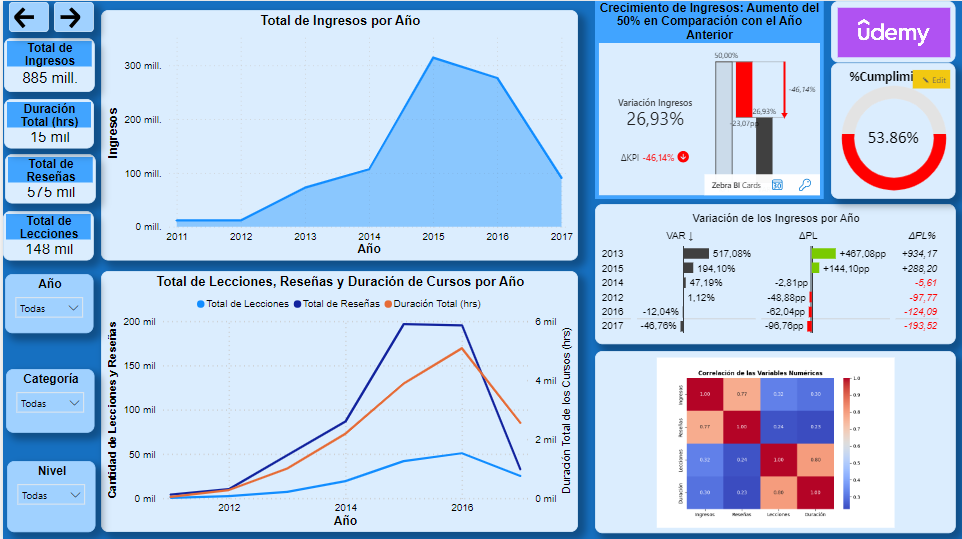

This screenshot's page, from the dashboard's own definition file:
{"tool":"powerbi","page":{"name":"KPI2","canvas":[1280,720],"ordinal":1},"visuals":[{"type":"areaChart","title":"Total de Ingresos por Año","fields":{"Category":["Calendario.Date.Variación.Jerarquía de fechas.Año"],"Y":["Sum(udemy_transformation.revenue)"]},"box":[131,11.5,636.5,334.1],"z":0},{"type":"lineChart","title":"Total de Lecciones, Reseñas y Duración de Cursos por Año","fields":{"Y":["Sum(udemy_transformation.num_lectures)","Sum(udemy_transformation.num_reviews)"],"Category":["Calendario.Date.Variación.Jerarquía de fechas.Año"],"Y2":["Sum(udemy_transformation.content_duration)"]},"box":[131,360,636.5,348.5],"z":1000},{"type":"card","title":"Total de Lecciones","fields":{"Values":["Sum(udemy_transformation.num_lectures)"]},"box":[0,279.4,121,66.2],"z":2000},{"type":"card","title":"Total de Reseñas","fields":{"Values":["Sum(udemy_transformation.num_reviews)"]},"box":[2.9,204.5,121,66.2],"z":3000},{"type":"card","title":"Total de Ingresos","fields":{"Values":["Sum(udemy_transformation.revenue)"]},"box":[1.4,49,121,72],"z":4000},{"type":"slicer","title":"Categoría","fields":{"Values":["udemy_transformation.subject"]},"box":[4.3,491,118.1,85],"z":5000},{"type":"slicer","title":"Nivel","fields":{"Values":["udemy_transformation.level"]},"box":[5.8,613.4,118.1,95],"z":6000},{"type":"slicer","title":"Año","fields":{"Values":["Calendario.Date.Variación.Jerarquía de fechas.Año"]},"box":[2.9,364.3,118.1,79.2],"z":7000},{"type":"variance8E4BB1B41A8942A7B897C7014A6E1F56","fields":{"Category":["Calendario.Date.Variación.Jerarquía de fechas.Año"],"Values":["udemy_transformation.VariacionIngresos"],"Plan":["udemy_transformation.KPI2"]},"box":[789.1,270.7,481,187.2],"z":8000},{"type":"zebraBiCards2C860CFAA9944091B75F0DBD117F20FA","title":"Crecimiento de Ingresos: Aumento del 50% en Comparación con el Año Anterior","fields":{"Values":["udemy_transformation.VariacionIngresos"],"Plan":["udemy_transformation.KPI2"]},"box":[789.1,0,305.3,263.5],"z":9000},{"type":"pureVizInfographicC9801BF222134D2D83FA9C41861F3482","fields":{"dataset":["udemy_transformation.%Cumplimiento2","udemy_transformation.Color2"]},"box":[1104.5,82.1,165.6,181.4],"z":10000},{"type":"card","title":"Duración Total (hrs)","fields":{"Values":["Sum(udemy_transformation.content_duration)"]},"box":[1.4,131,119.5,66.2],"z":11000},{"type":"pythonVisual","fields":{"Values":["udemy_transformation.revenue","udemy_transformation.num_reviews","udemy_transformation.num_lectures","udemy_transformation.content_duration"]},"box":[789.5,466.6,480.5,242.6],"z":12000},{"type":"image","box":[1104.5,0,165.6,82.1],"z":13000},{"type":"actionButton","box":[8.6,1.4,53.3,40.3],"z":14000},{"type":"actionButton","box":[67.7,1.4,53.3,40.3],"z":15000}]}

Visuals, with their boxes in screenshot pixels (x1, y1, x2, y2), scaled from the page's 1280x720 canvas onto the 962x539 screenshot:
"Total de Ingresos por Año" areaChart: bbox=(98, 9, 577, 259)
"Total de Lecciones, Reseñas y Duración de Cursos por Año" lineChart: bbox=(98, 270, 577, 530)
"Total de Lecciones" card: bbox=(0, 209, 91, 259)
"Total de Reseñas" card: bbox=(2, 153, 93, 203)
"Total de Ingresos" card: bbox=(1, 37, 92, 91)
"Categoría" slicer: bbox=(3, 368, 92, 431)
"Nivel" slicer: bbox=(4, 459, 93, 530)
"Año" slicer: bbox=(2, 273, 91, 332)
variance8E4BB1B41A8942A7B897C7014A6E1F56 - Calendario.Date.Variación.Jerarquía de fechas.Año x udemy_transformation.VariacionIngresos: bbox=(593, 203, 955, 343)
"Crecimiento de Ingresos: Aumento del 50% en Comparación con el Año Anterior" zebraBiCards2C860CFAA9944091B75F0DBD117F20FA: bbox=(593, 0, 823, 197)
pureVizInfographicC9801BF222134D2D83FA9C41861F3482 - udemy_transformation.%Cumplimiento2 x udemy_transformation.Color2: bbox=(830, 61, 955, 197)
"Duración Total (hrs)" card: bbox=(1, 98, 91, 148)
pythonVisual - udemy_transformation.revenue x udemy_transformation.num_reviews: bbox=(593, 349, 954, 531)
image: bbox=(830, 0, 955, 61)
actionButton: bbox=(6, 1, 47, 31)
actionButton: bbox=(51, 1, 91, 31)
